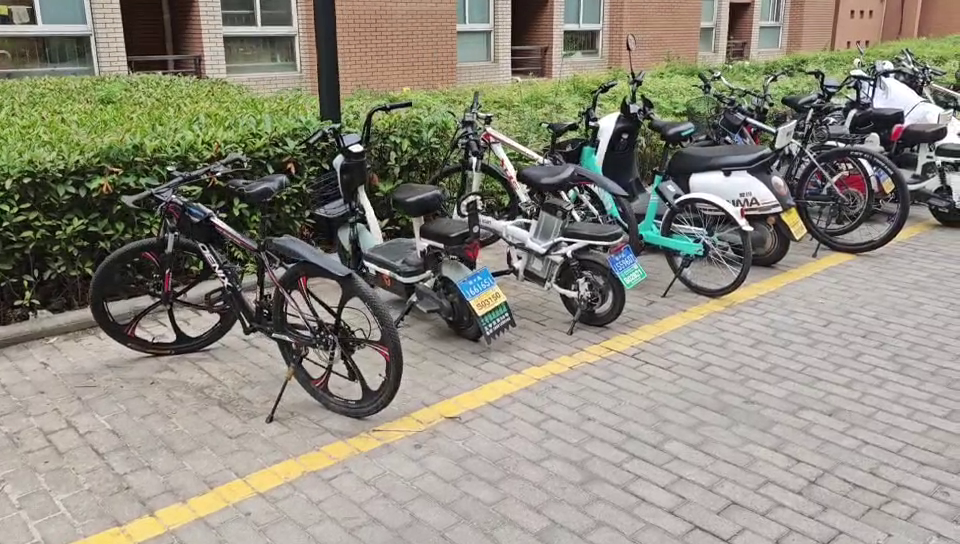others: (80, 169, 397, 416), (303, 116, 490, 337), (701, 72, 915, 253), (795, 64, 960, 242)
shared_bike_qingcong: (550, 82, 753, 308)
